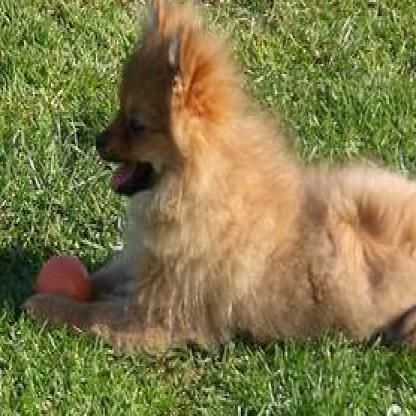dog: (19, 0, 416, 352)
